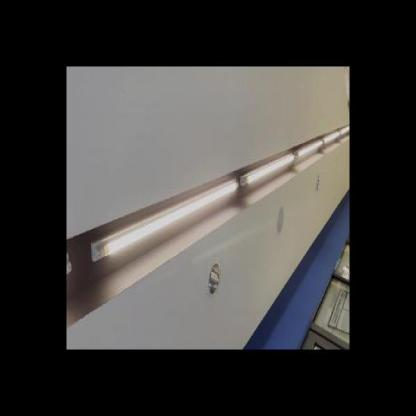light_on: (88, 172, 240, 274), (237, 148, 295, 191), (296, 138, 325, 159), (320, 130, 340, 142), (341, 124, 349, 136)
